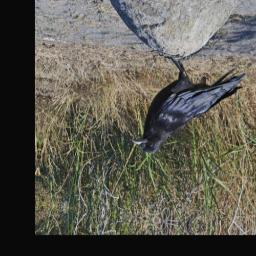Crow: (129, 44, 249, 170)
